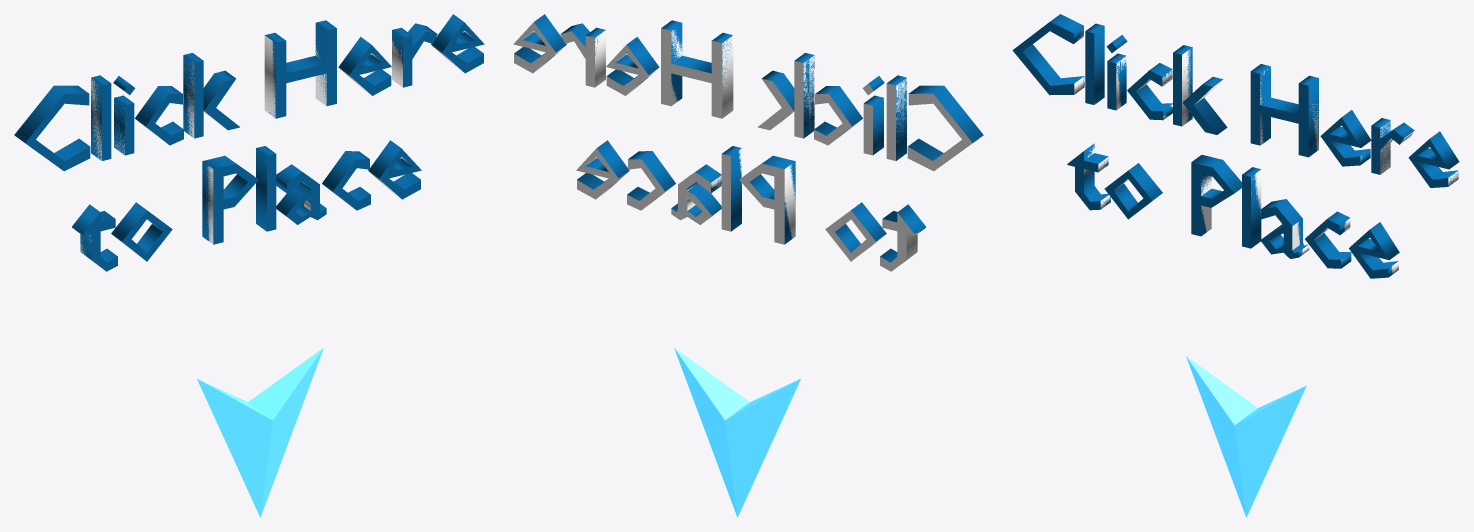
Rendered from reticle.gltf.
The picture shows the model from 3 angles, left to right: view 1: azimuth 30°, elevation 25°; view 2: azimuth 150°, elevation 25°; view 3: azimuth 330°, elevation 25°; orthographic projection. The views are drawn at different scales.
Parts seen in each view (by area): view 1: Text.002, arrow_model.001, Text, arrow_model; view 2: Text, Text.002, arrow_model.001, arrow_model; view 3: Text.002, arrow_model.001, Text, arrow_model.
Boxes of the visible parts, x1,y1,x2,y2 form: Text.002: [14, 14, 484, 271]; arrow_model.001: [197, 351, 320, 517]; Text: [72, 31, 473, 269]; arrow_model: [199, 348, 323, 506]; Text: [513, 22, 972, 271]; Text.002: [514, 14, 983, 262]; arrow_model.001: [677, 351, 800, 517]; arrow_model: [674, 348, 744, 505]; Text.002: [1012, 14, 1459, 278]; arrow_model.001: [1188, 359, 1306, 517]; Text: [1027, 29, 1458, 274]; arrow_model: [1186, 356, 1250, 505].
Size of the model in its own units: 1.86 by 1.84 by 0.1748.
